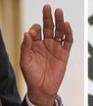left: (19, 4, 74, 90)
